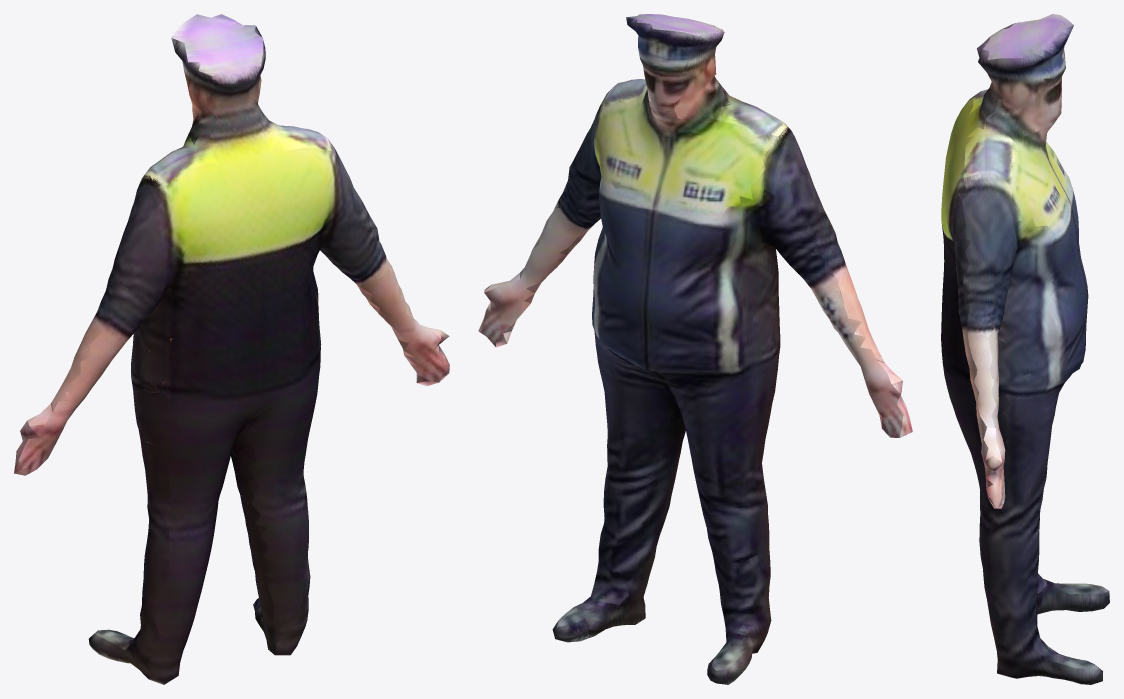
3 views of the same model, side by side, from view 1: azimuth 30°, elevation 25°; view 2: azimuth 150°, elevation 25°; view 3: azimuth 270°, elevation 25° (orthographic).
Visible parts, largest first — view 1: world; view 2: world; view 3: world.
Part boxes in pixels (bbox=[...]): world: bbox=[14, 14, 449, 684]; world: bbox=[478, 14, 912, 684]; world: bbox=[941, 14, 1109, 684].
Size of the model in its own units: 0.7248 by 1 by 0.2454.
Materials: 1 (1 with a texture image).
